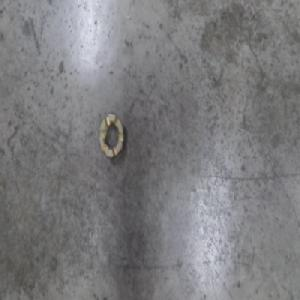Nut: (96, 109, 126, 161)
